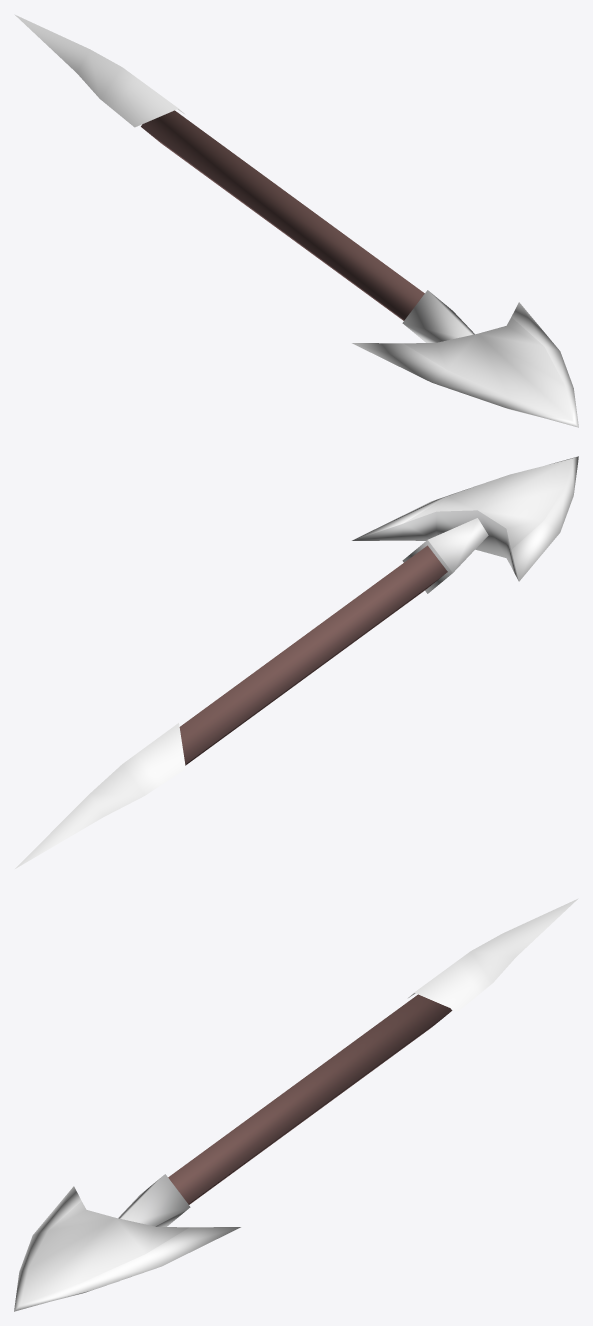
The model's file is VK_muiten.fbx.
The picture shows the model from 3 angles, top to bottom: view 1: azimuth 30°, elevation 25°; view 2: azimuth 150°, elevation 25°; view 3: azimuth 330°, elevation 25°; orthographic projection.
Visible parts, largest first — view 1: VK_tenVang; view 2: VK_tenVang; view 3: VK_tenVang.
Boxes of the visible parts, x1,y1,x2,y2 form: VK_tenVang: [14, 14, 578, 427]; VK_tenVang: [15, 456, 578, 868]; VK_tenVang: [14, 898, 578, 1311].
Bounding box in the file's own units: 0.5299 × 0.1638 × 3.09.
